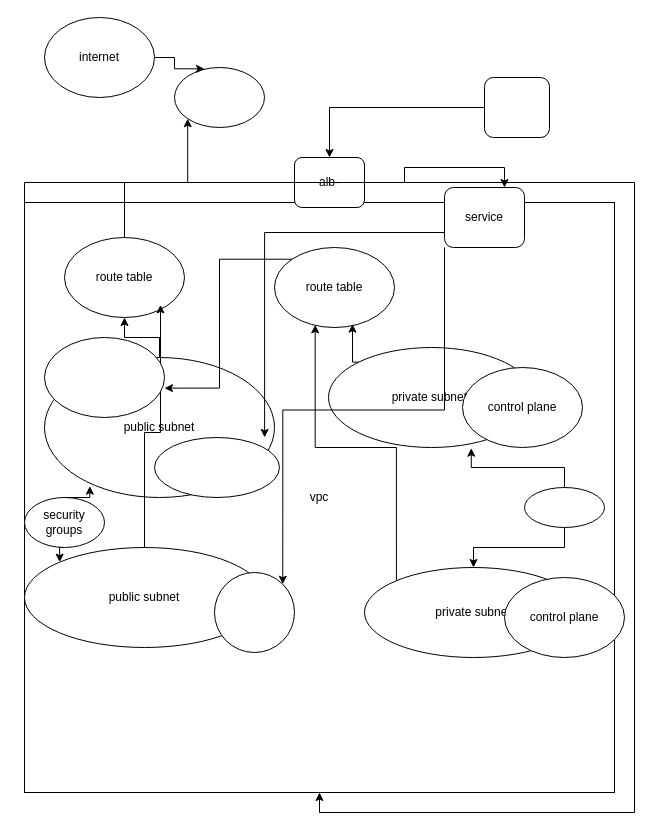
Some shapes in this 660 by 838 pixel diagram are drawn without their labels. Here are the shapes that lost their labels. From the top down, the centre of each, then its label:
pixel 219 97: IG
pixel 517 107: users
pixel 104 377: nat gateway
pixel 217 467: worker node1
pixel 564 507: NACL
pixel 254 612: workernode2
